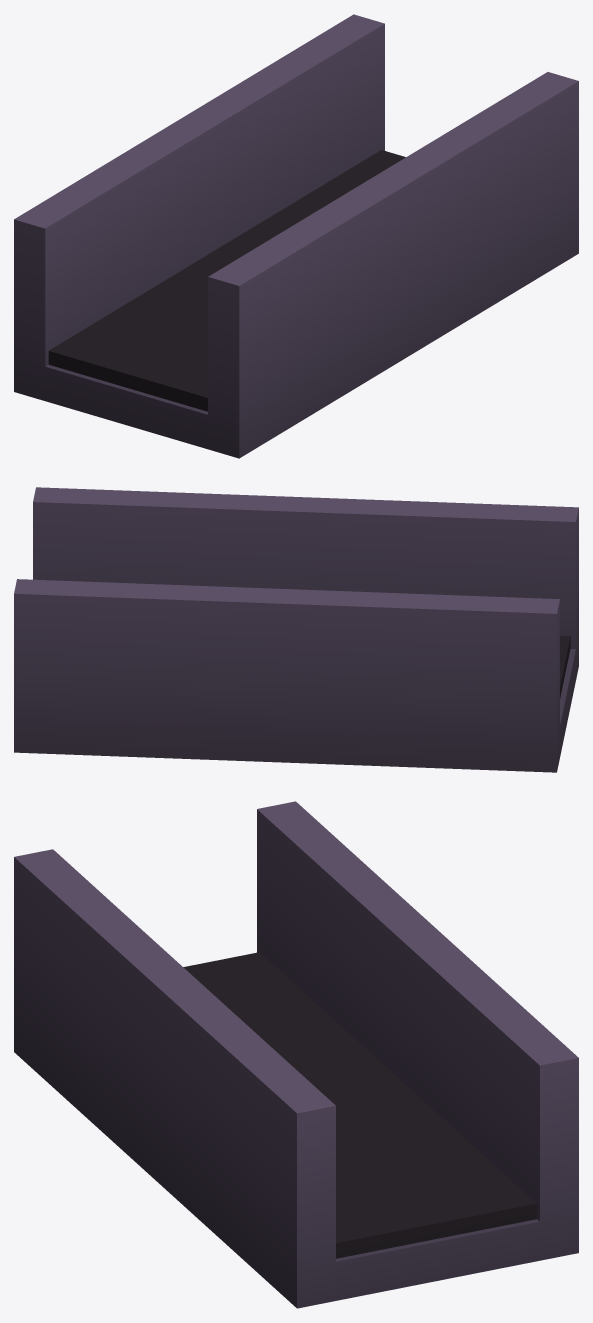
The model's file is tungsten-plate.glb.
3 views of the same model, one above another, from view 1: azimuth 30°, elevation 25°; view 2: azimuth 150°, elevation 25°; view 3: azimuth 270°, elevation 25° (orthographic). The views are drawn at different scales.
Visible parts, largest first — view 1: tungsten-plate; view 2: tungsten-plate; view 3: tungsten-plate.
Part boxes in pixels (box(x1,y1,x2,y2)): tungsten-plate: box(14, 14, 578, 458); tungsten-plate: box(14, 487, 578, 772); tungsten-plate: box(14, 801, 578, 1308).
Size of the model in its own units: 0.3087 by 0.09 by 0.2362.
